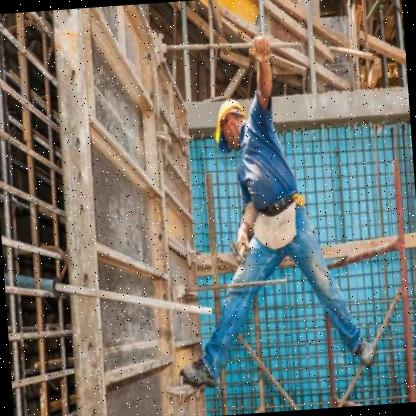bota: (178, 346, 230, 398), (346, 329, 383, 372)
capacete: (209, 90, 252, 157)
